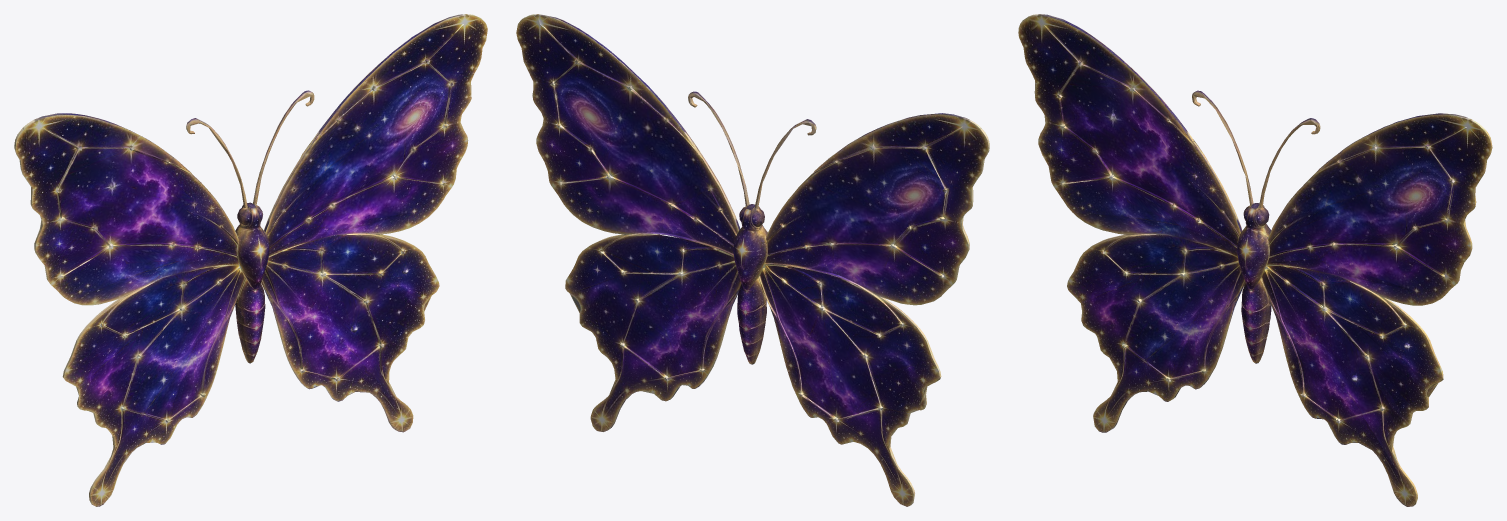
File: butterfly.glb
3 renders of one model, left to right at view 1: azimuth 30°, elevation 25°; view 2: azimuth 150°, elevation 25°; view 3: azimuth 330°, elevation 25°, orthographic.
Size of the model in its own units: 1.9 by 1.55 by 0.1514.
Materials: 1 (1 with a texture image).
